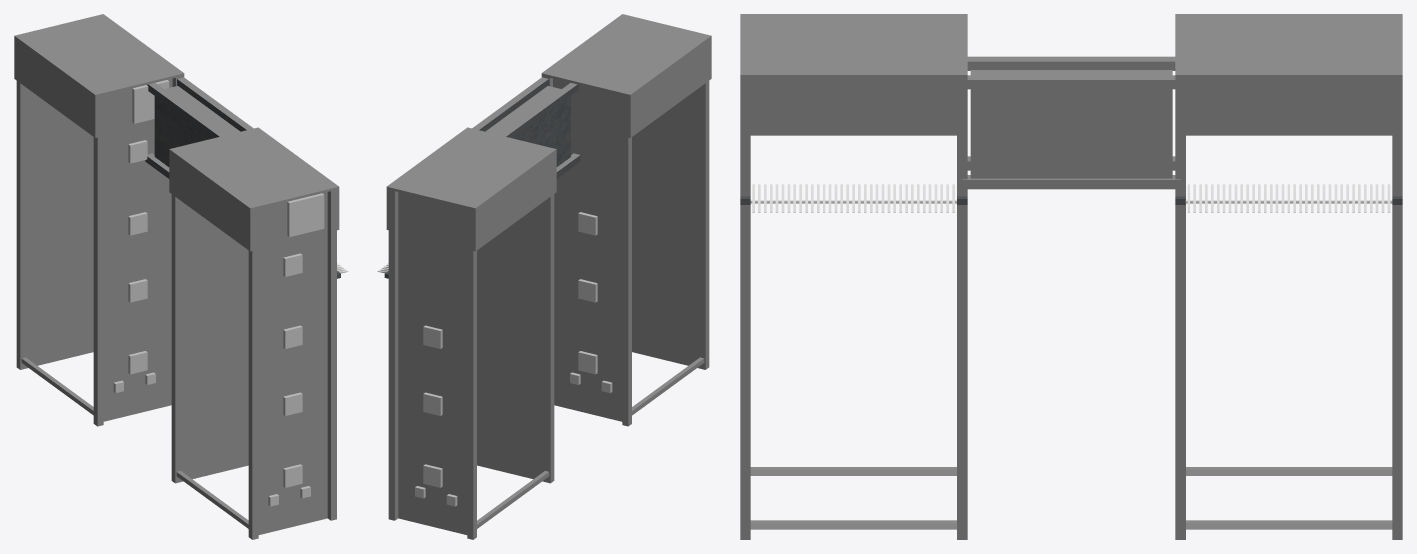
File: jiandanqi_01.FBX
3 views of the same model, side by side, from view 1: azimuth 30°, elevation 25°; view 2: azimuth 150°, elevation 25°; view 3: azimuth 270°, elevation 25° (orthographic). The views are drawn at different scales.
Visible parts, largest first — view 1: Box004; view 2: Box004; view 3: Box004.
Part boxes in pixels (x1,y1,x2,y2): Box004: (14,14,340,539); Box004: (384,14,711,539); Box004: (740,14,1402,539).
Bounding box in the file's own units: 97.01 × 300 × 386.
